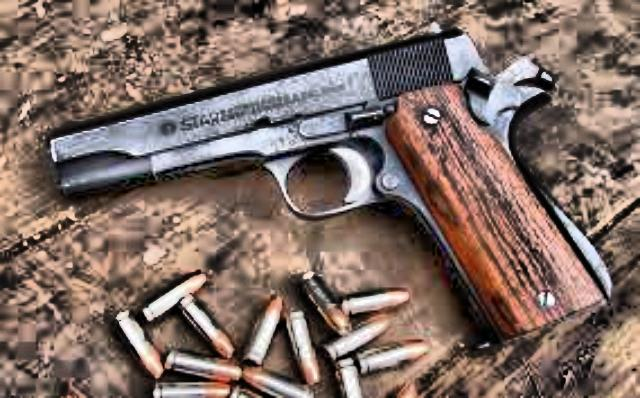pistol: (30, 11, 620, 327)
